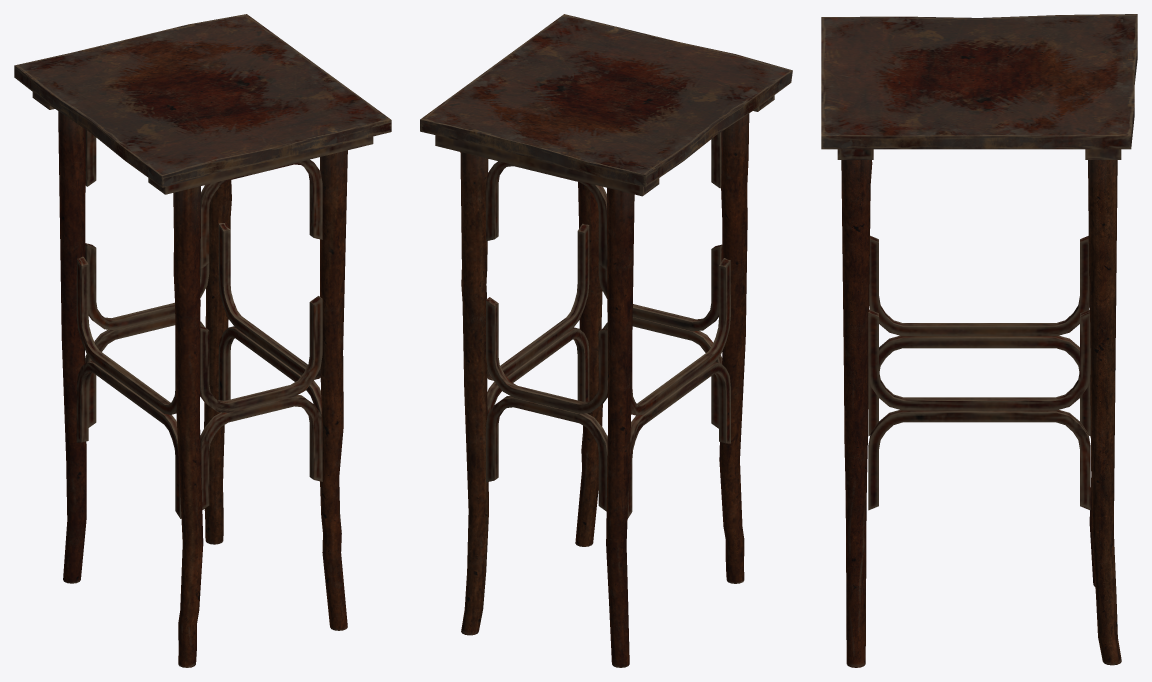
Rendered from old_wooden_stool.glb.
3 views of the same model, side by side, from view 1: azimuth 30°, elevation 25°; view 2: azimuth 150°, elevation 25°; view 3: azimuth 270°, elevation 25° (orthographic). The views are drawn at different scales.
Visible parts, largest first — view 1: Object_2; view 2: Object_2; view 3: Object_2.
Part boxes in pixels (x1,y1,x2,y2): Object_2: [14, 14, 391, 667]; Object_2: [420, 14, 792, 667]; Object_2: [821, 14, 1137, 667].
Size of the model in its own units: 0.2342 by 0.4988 by 0.2605.
Materials: 1 (1 with a texture image).
